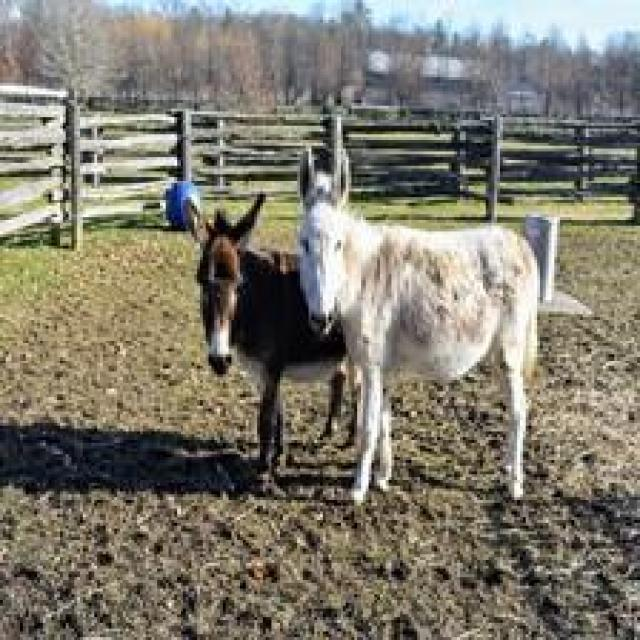Donkey: (294, 146, 540, 503), (183, 188, 357, 483)
